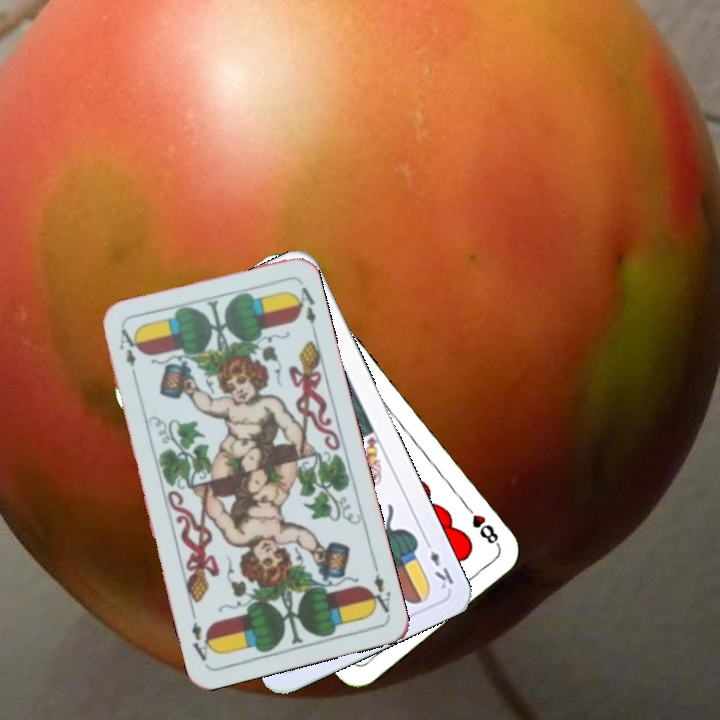EA: (364, 559, 394, 616), (115, 325, 140, 383)
EK: (420, 534, 457, 592)
H8: (460, 499, 503, 549)
